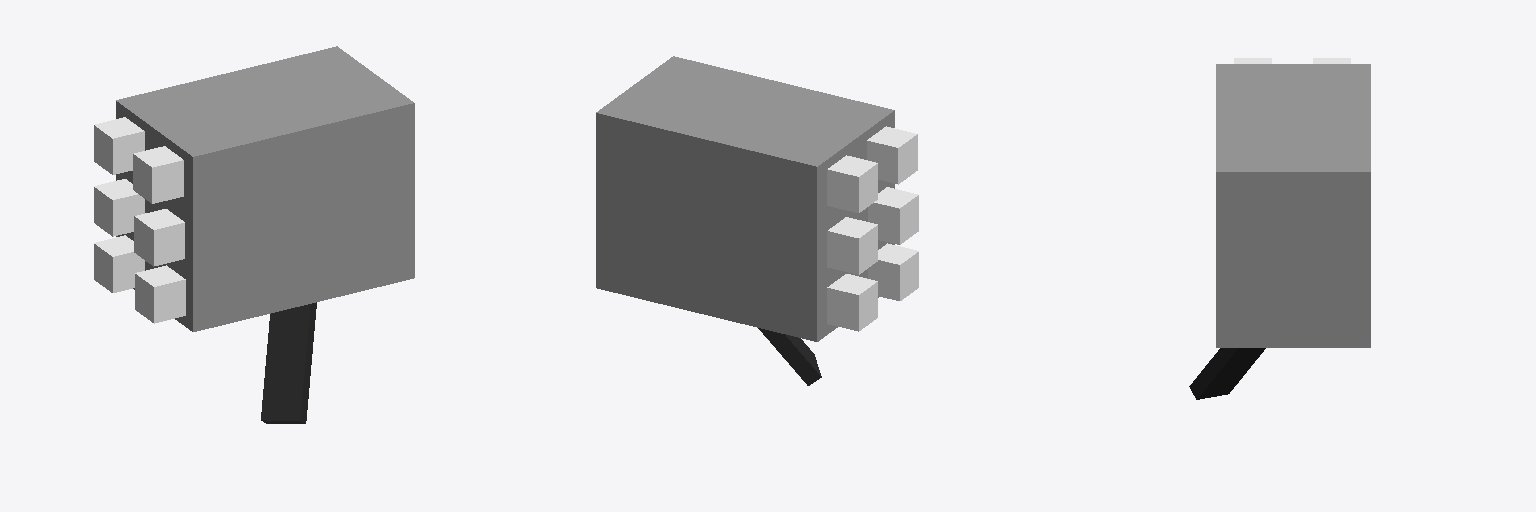
3 views of the same model, side by side, from view 1: azimuth 30°, elevation 25°; view 2: azimuth 150°, elevation 25°; view 3: azimuth 270°, elevation 25° (orthographic).
Visible parts, largest first — view 1: MissileLauncher; view 2: MissileLauncher; view 3: MissileLauncher.
Boxes of the visible parts, <box> form: MissileLauncher: <box>94,46,414,423</box>; MissileLauncher: <box>596,56,918,385</box>; MissileLauncher: <box>1189,58,1370,399</box>.
Bounding box in the file's own units: 0.4581 × 0.5029 × 0.2846.
1 materials, 1 textured.